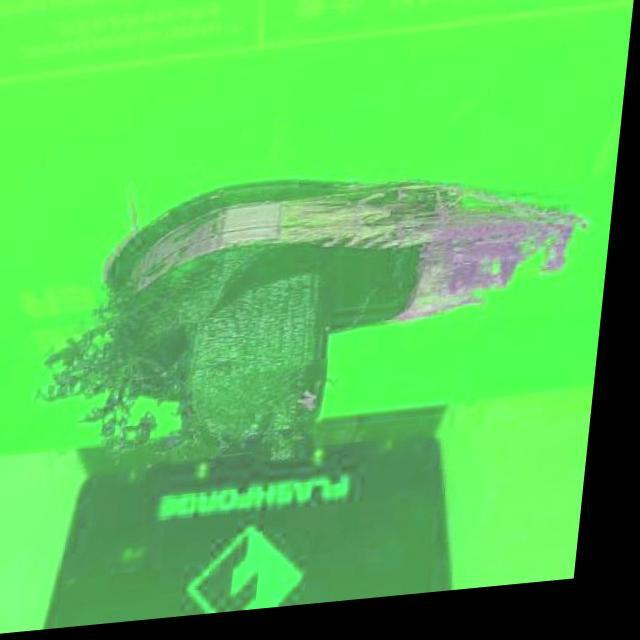spaghetti: (35, 262, 218, 483), (414, 186, 599, 336)
